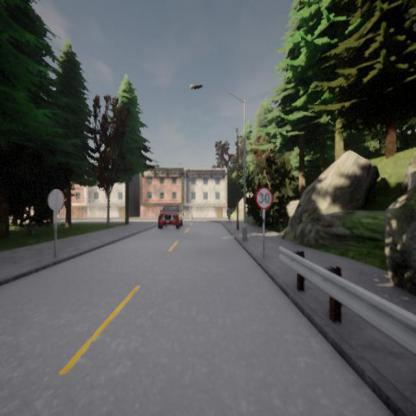traffic_sign_30: (256, 189, 272, 208)
vehicle: (158, 204, 183, 230)
